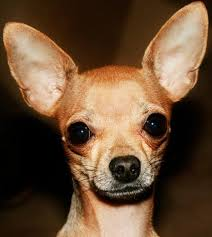chihuahua: (1, 2, 212, 226)
